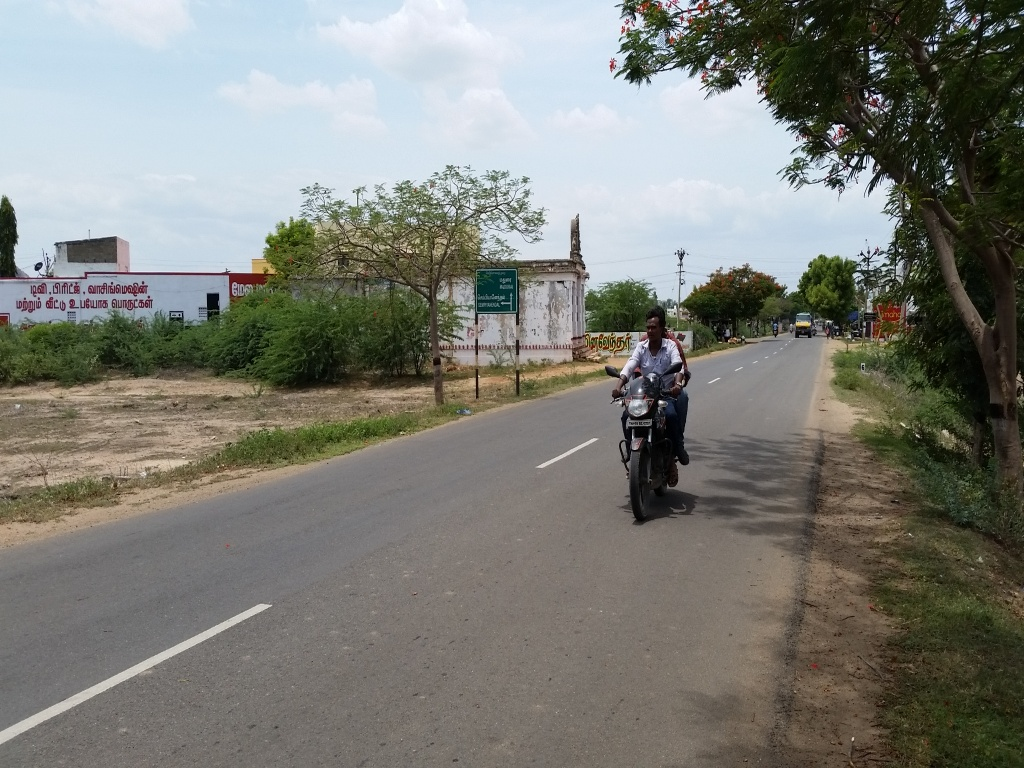biker: (601, 274, 715, 531)
nohelmet: (635, 298, 680, 360)
